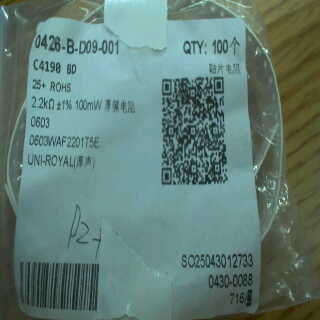2.2kR: (29, 91, 58, 116)
